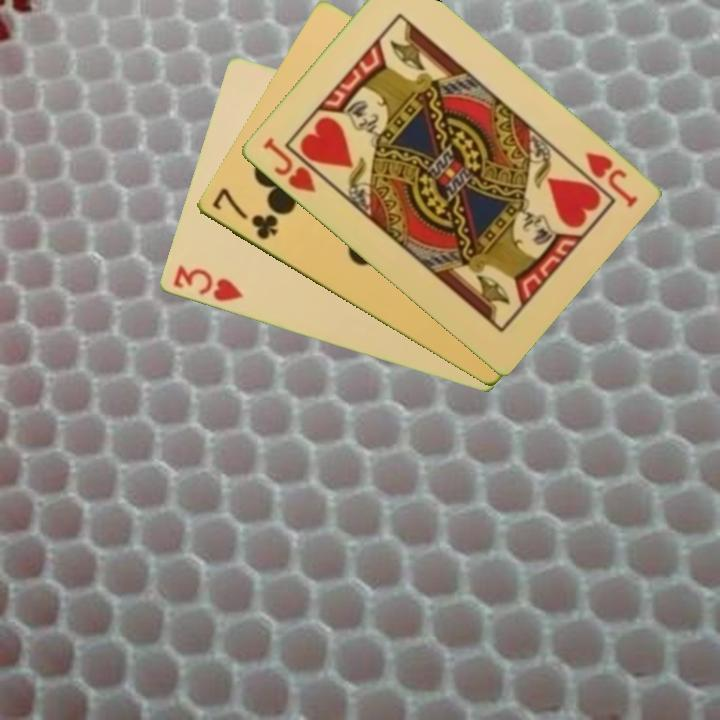3h: (169, 262, 246, 305)
7c: (208, 184, 281, 243)
Jh: (258, 134, 331, 197), (580, 148, 640, 210)
